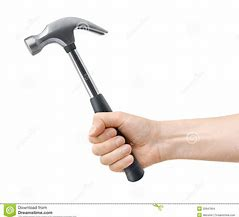hammer: (22, 14, 150, 184)
